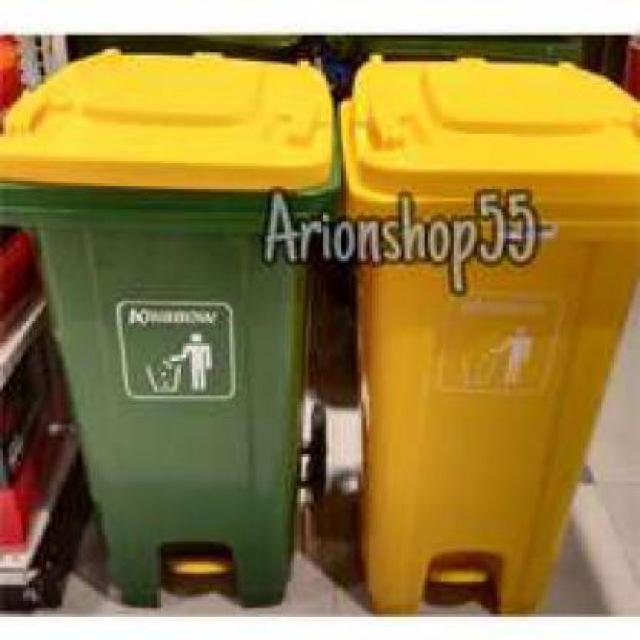garbage container: (4, 50, 335, 624), (336, 50, 639, 638)
